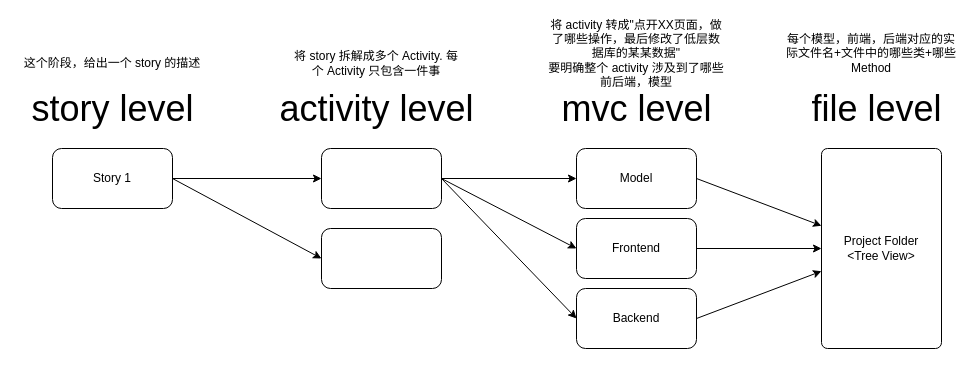
Image size: 978x366. Some labels were removed from this diagram. Each missing label, with the centre of its shape:
"Activity 1" belongs at (x=381, y=178).
"Activity 2" belongs at (x=381, y=258).
